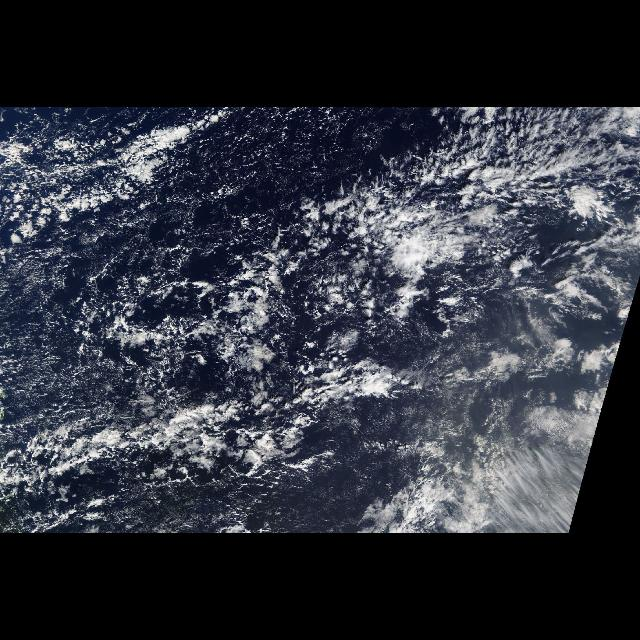Gravel: (19, 116, 432, 528)
Sugar: (201, 116, 431, 192)
